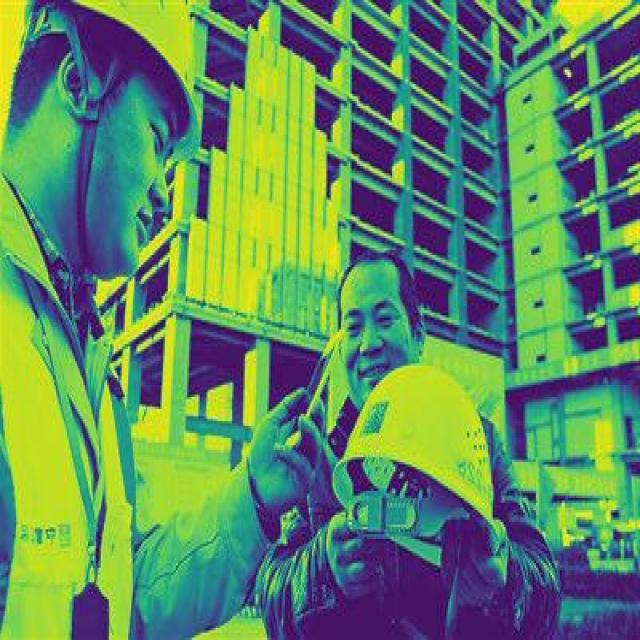Reflective-Jacket: (0, 257, 134, 635)
Safety-Helmet: (328, 356, 510, 529), (7, 0, 206, 106)
